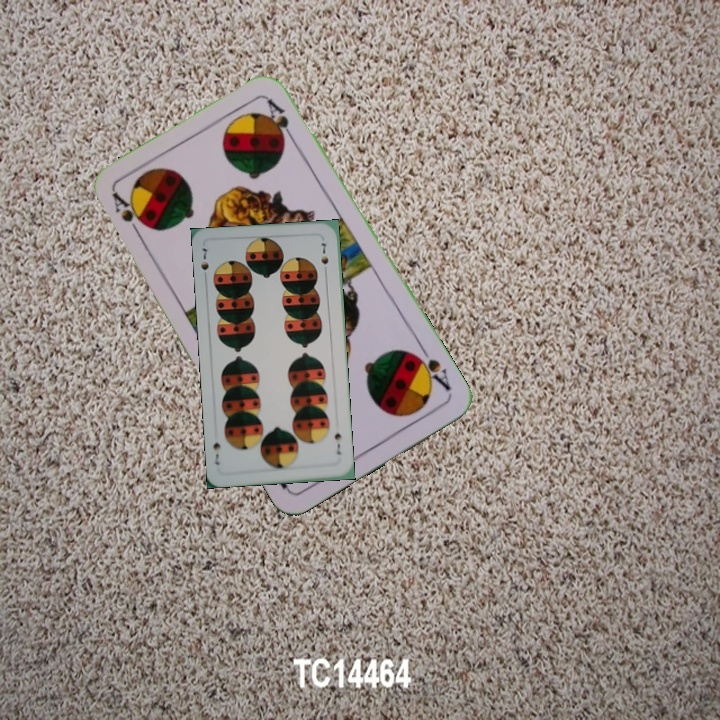S7: (197, 244, 211, 283), (330, 429, 344, 457)
SA: (409, 343, 453, 393), (107, 188, 146, 242)
